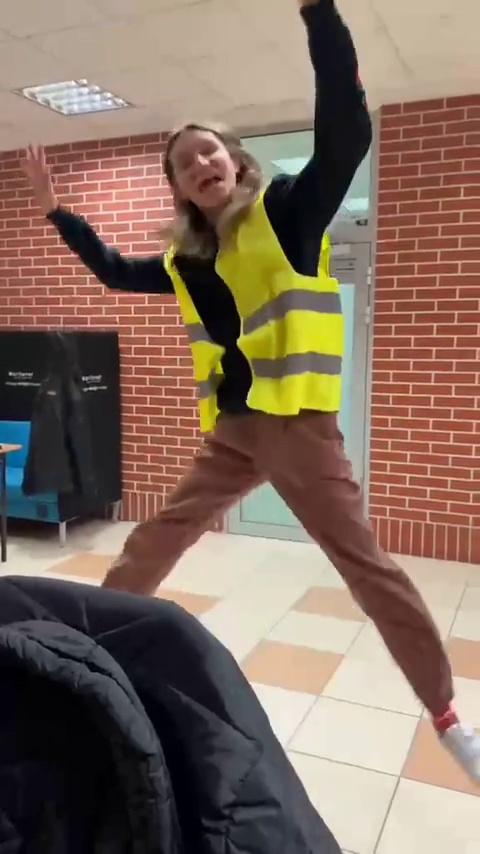vest: (117, 174, 444, 710)
